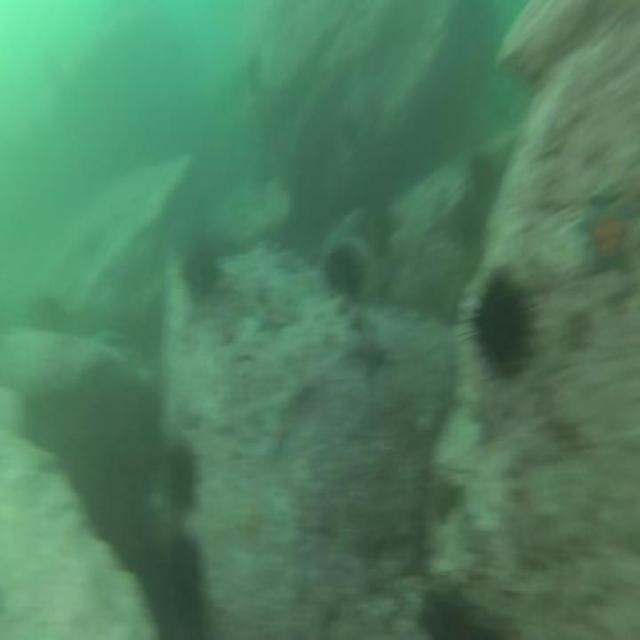echinus: (465, 264, 538, 384), (157, 528, 206, 630), (416, 578, 479, 640), (319, 240, 367, 307), (162, 441, 202, 517), (180, 243, 224, 302), (452, 192, 491, 244), (466, 148, 500, 200), (28, 291, 66, 335)
starfish: (580, 191, 634, 281), (352, 338, 396, 379)
